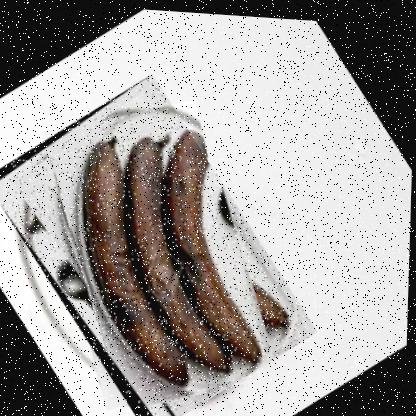banana_rotten: (0, 62, 327, 415)
